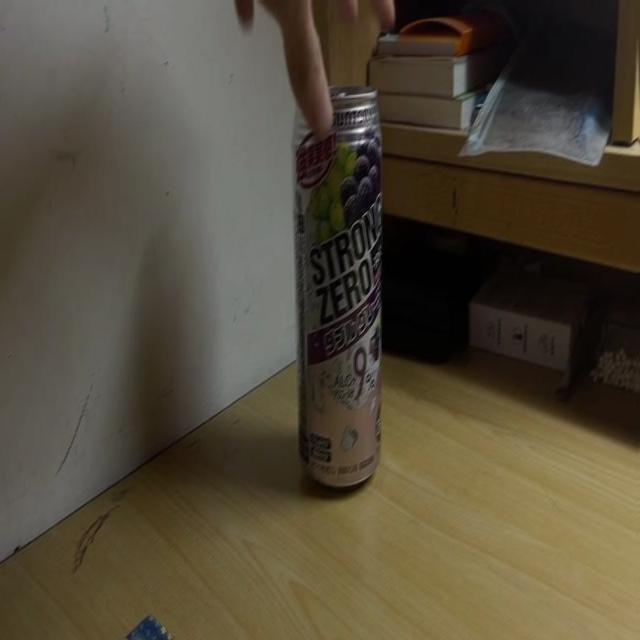Liquor: (294, 89, 382, 490)
